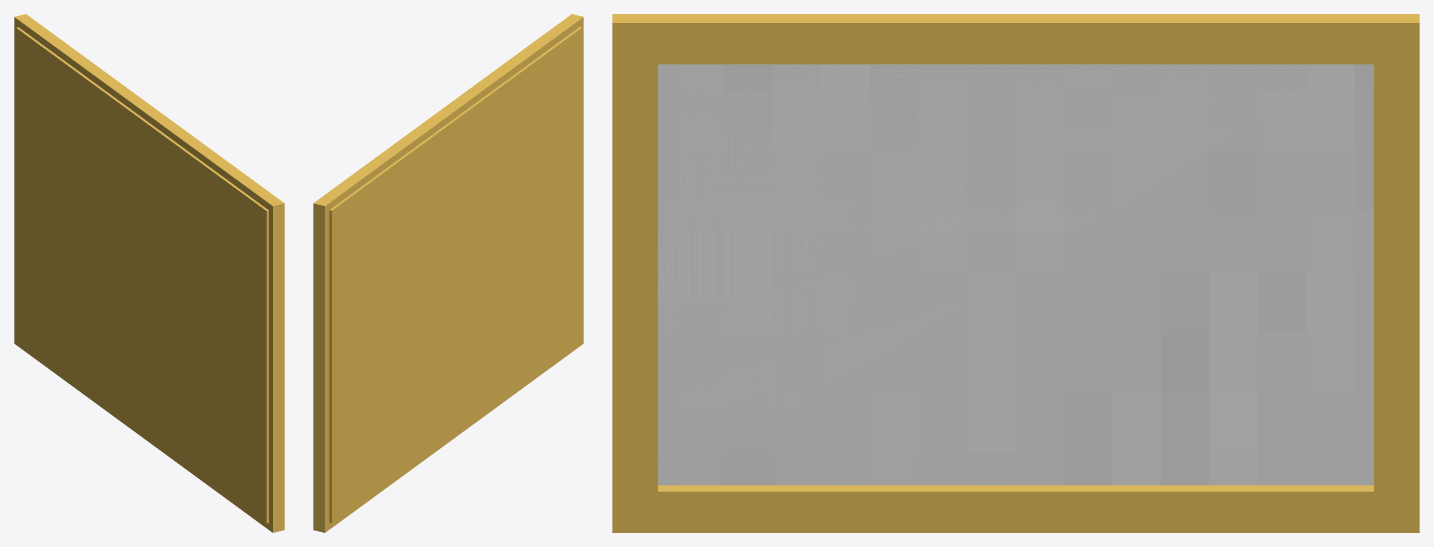
The model's file is retrato.gltf.
3 views of the same model, side by side, from view 1: azimuth 30°, elevation 25°; view 2: azimuth 150°, elevation 25°; view 3: azimuth 270°, elevation 25° (orthographic). The views are drawn at different scales.
Parts seen in each view (by area): view 1: cuboid (×5); view 2: cuboid (×5); view 3: cuboid (×5).
Boxes of the visible parts, left/top/right/bottom form: cuboid (×5): left=14, top=14, right=284, bottom=532; cuboid (×5): left=313, top=14, right=583, bottom=532; cuboid (×5): left=612, top=14, right=1419, bottom=532.
Size of the model in its own units: 0.0531 by 1.16 by 1.66.
Materials: 3 (2 with a texture image).
